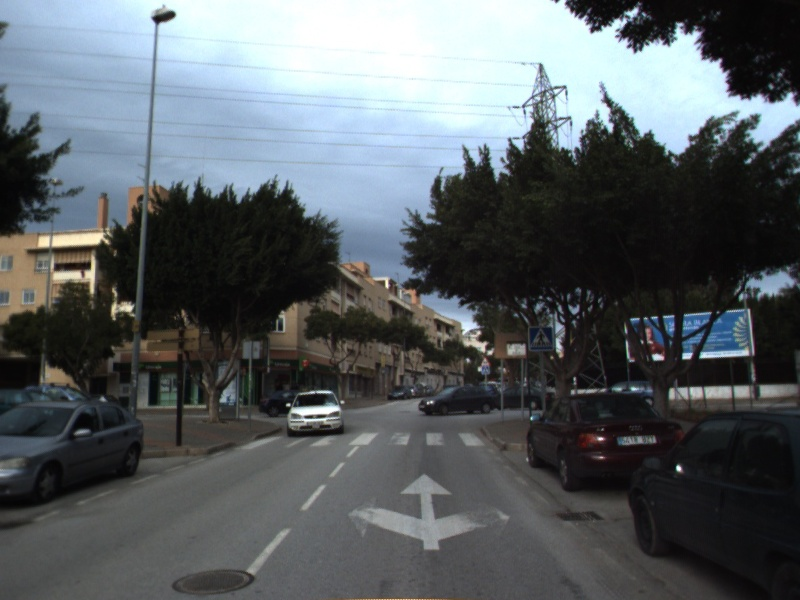STRAIGHT_LEFT_RIGHT: (345, 471, 513, 552)
